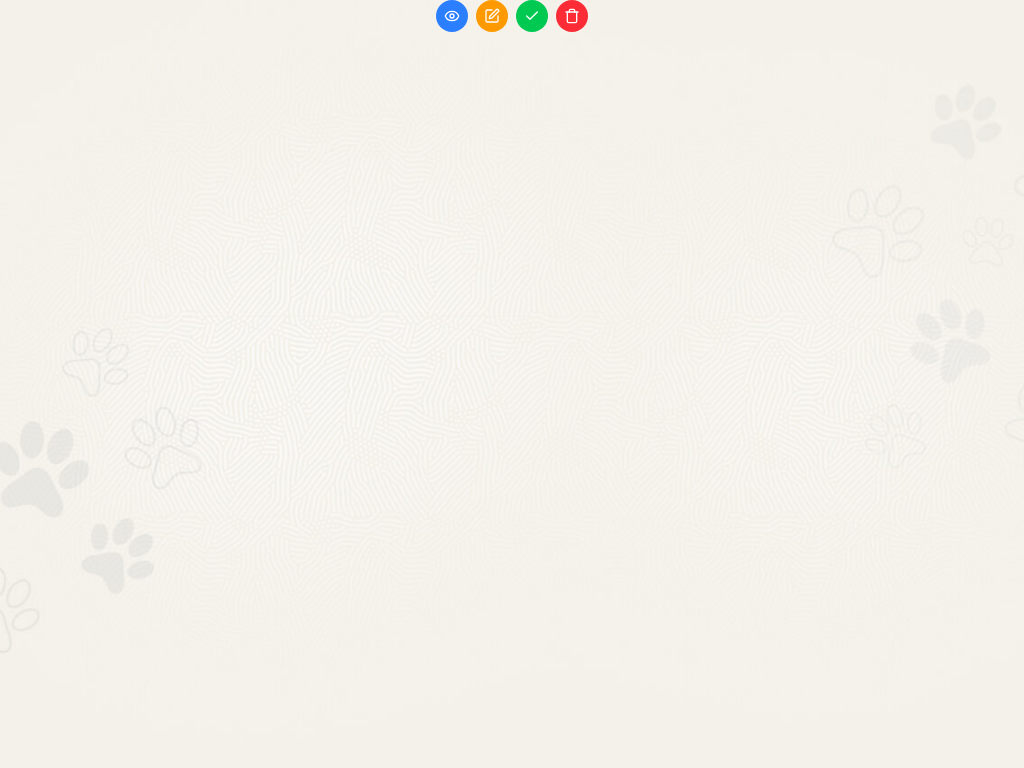
Test: ProductActionButtons › opens modal when delete is clicked
Click the button with test id "delete-button" at coordinates (572, 16), box [556,0,588,32]
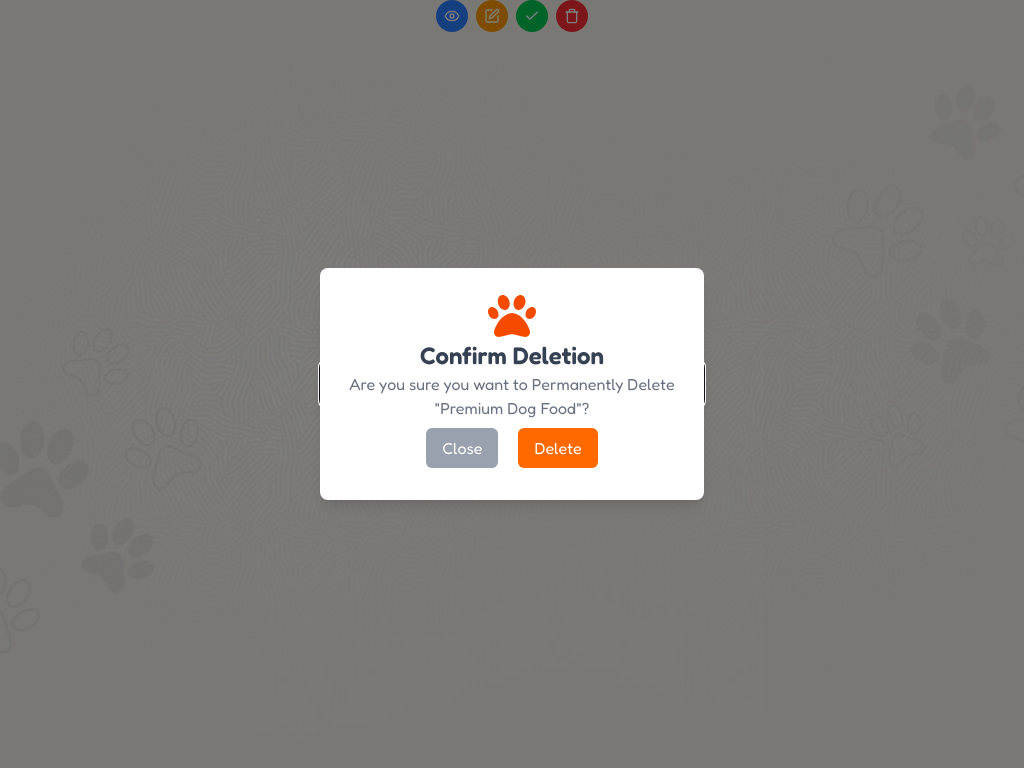
Result: the heading "Confirm Deletion" is shown at [420,340,604,372]
Result: the text "Are you sure you want to Permanently Delete \"Premium Dog Food\"" is shown at [349,374,675,418]
